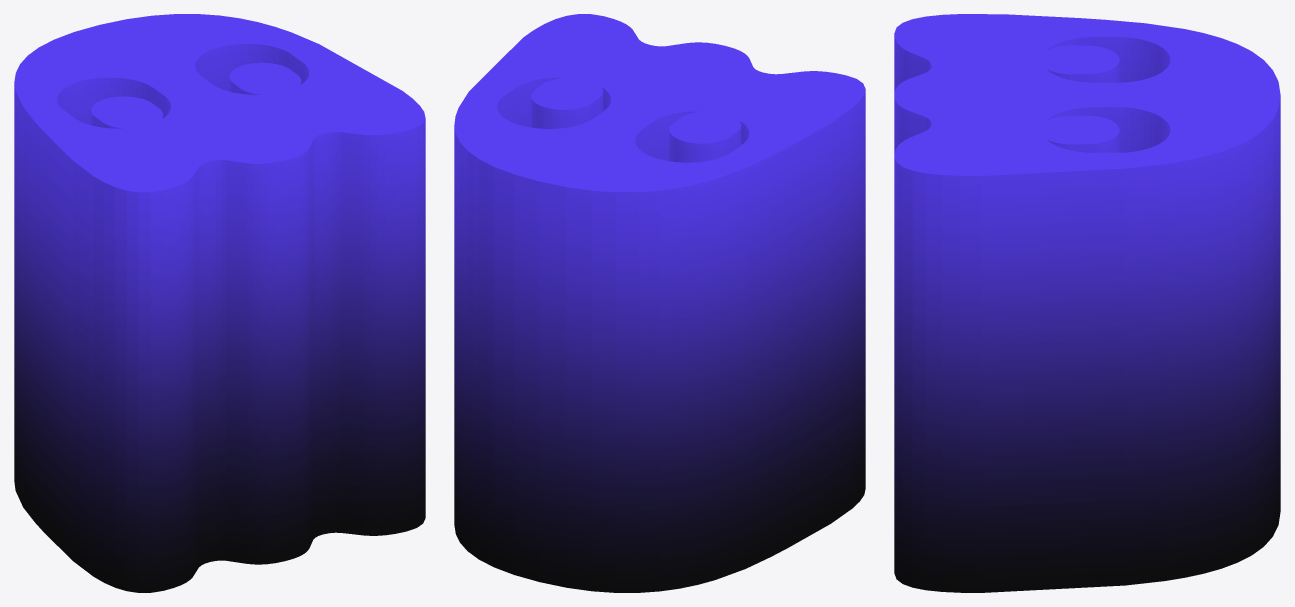
File: ghost.glb
3 views of the same model, side by side, from view 1: azimuth 30°, elevation 25°; view 2: azimuth 150°, elevation 25°; view 3: azimuth 270°, elevation 25° (orthographic). The views are drawn at different scales.
Parts seen in each view (by area): view 1: Curve; view 2: Curve; view 3: Curve.
Boxes of the visible parts, bbox=[...] form: Curve: bbox=[14, 14, 425, 592]; Curve: bbox=[454, 14, 865, 592]; Curve: bbox=[894, 14, 1280, 592].
Bounding box in the file's own units: 1.58 × 1.9 × 1.6.
Materials: 1 (1 with a texture image).
